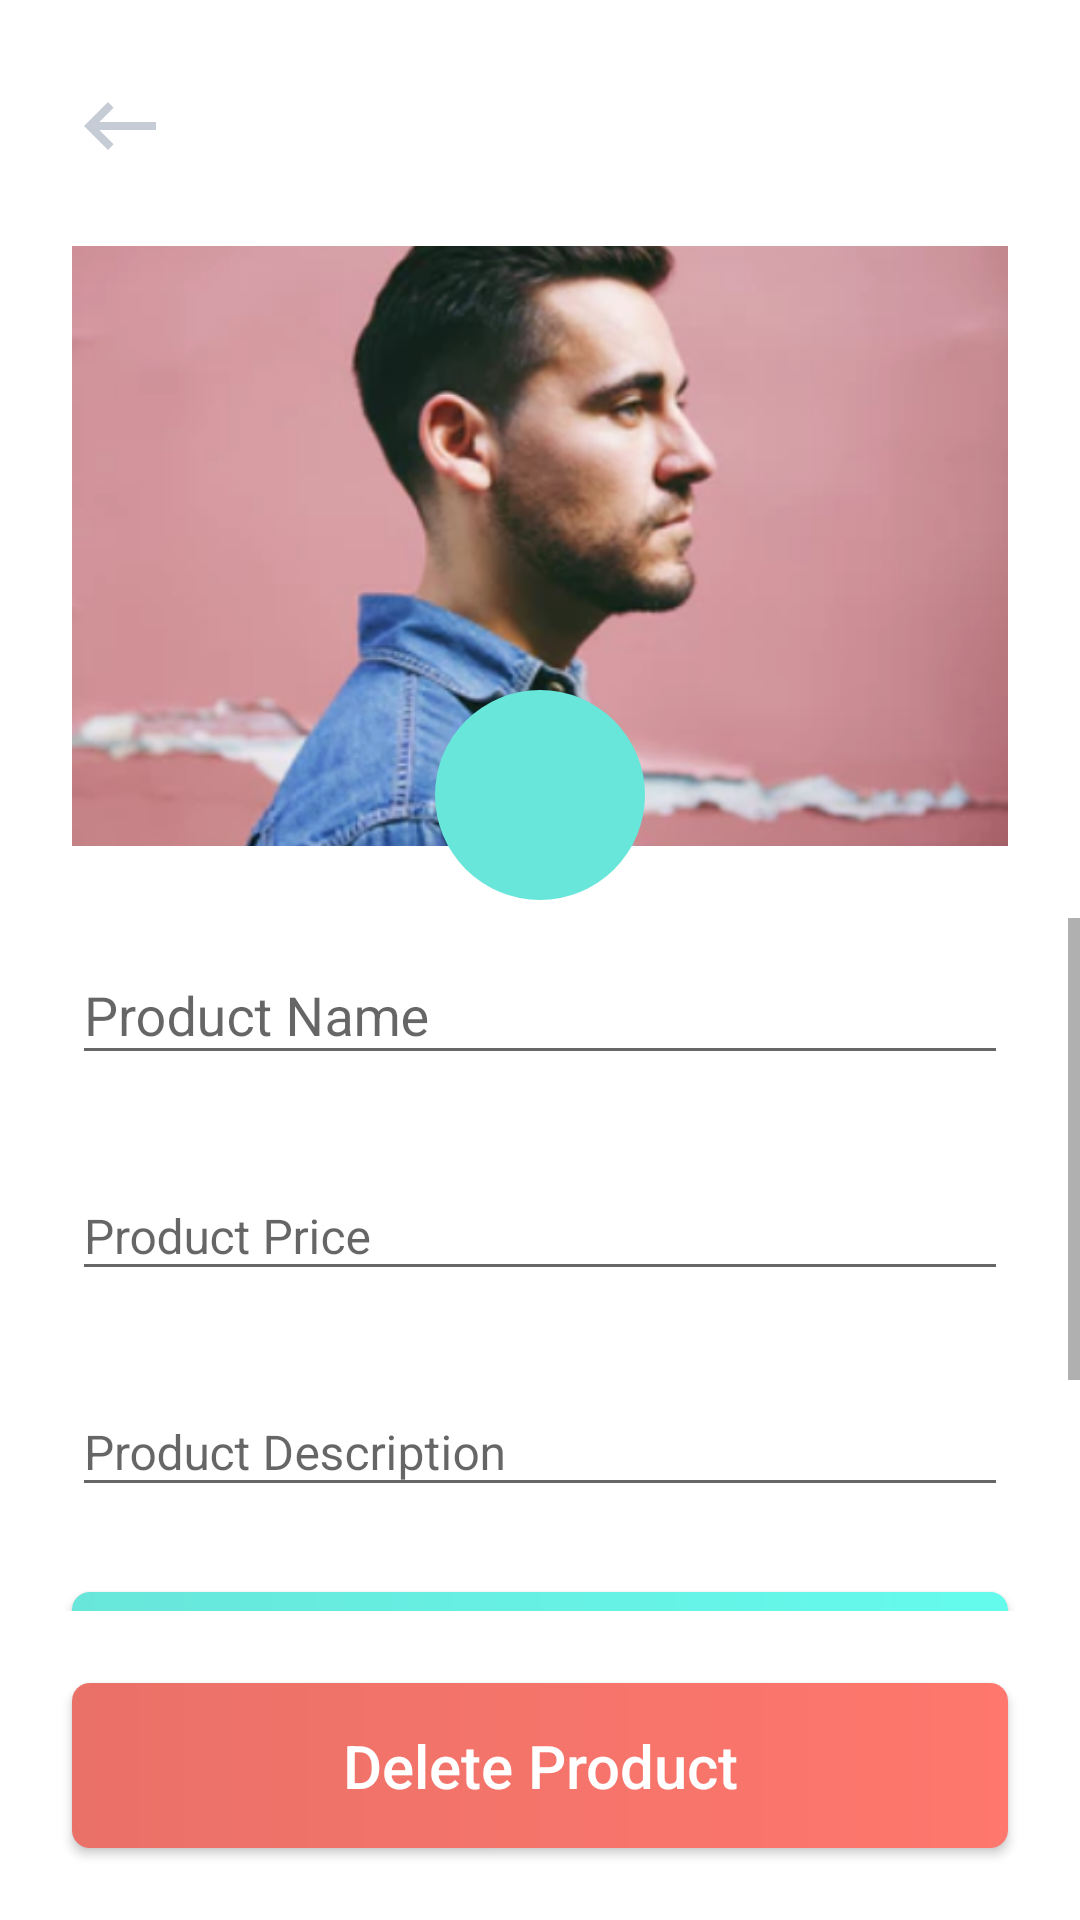

Icons on this 1080px x 1920px Android screen, each with the point to tap as (x,y):
keyboard backspace: (120,126)
